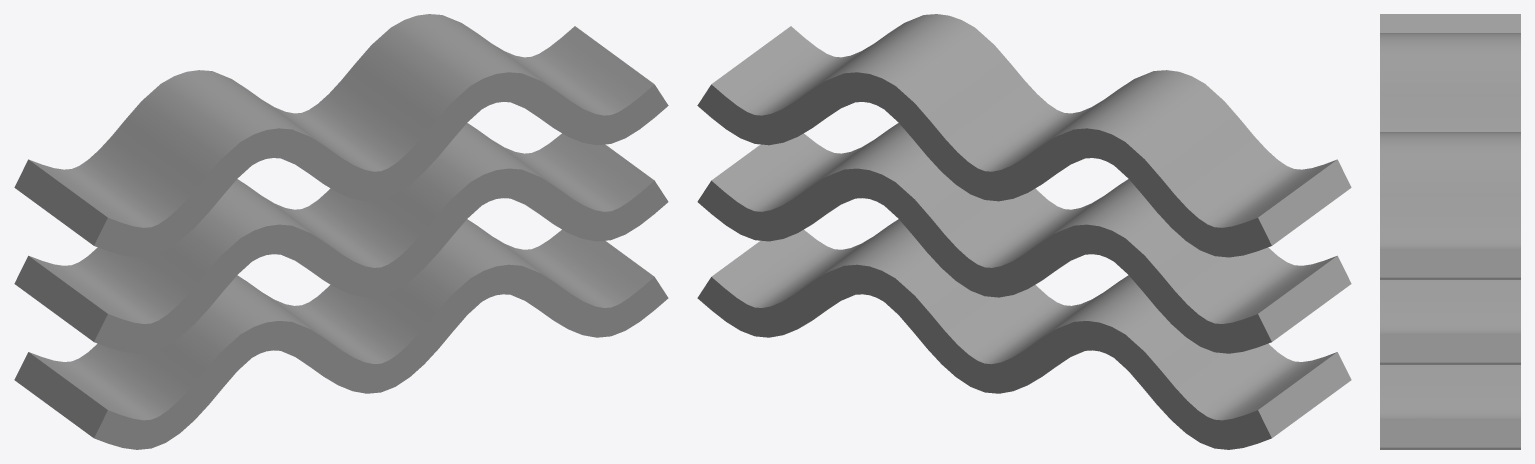
Rendered from fog.glb.
3 renders of one model, left to right at view 1: azimuth 30°, elevation 25°; view 2: azimuth 150°, elevation 25°; view 3: azimuth 270°, elevation 25°, orthographic. The views are drawn at different scales.
Parts seen in each view (by area): view 1: Plane.188; view 2: Plane.188; view 3: Plane.188.
Part boxes in pixels (left/top/right/bottom): Plane.188: left=14, top=14, right=668, bottom=449; Plane.188: left=697, top=14, right=1351, bottom=449; Plane.188: left=1380, top=14, right=1520, bottom=449.
Size of the model in its own units: 2.25 by 1.09 by 0.54.
Materials: 1 (1 with a texture image).
